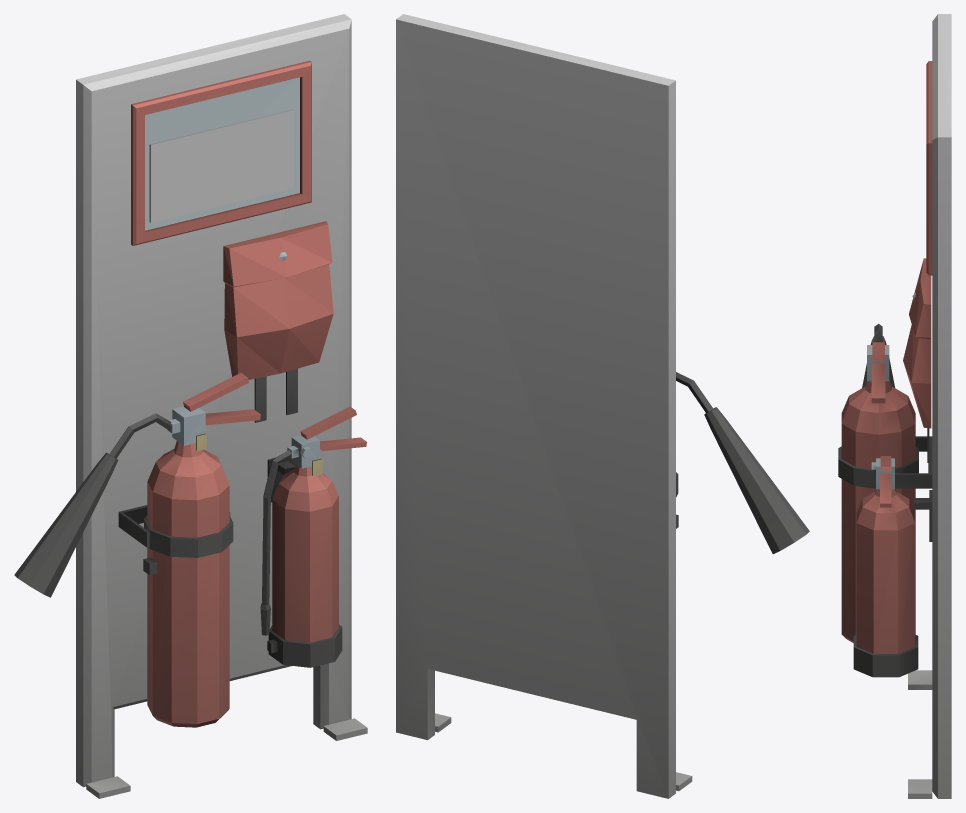
Rendered from firepoint.glb.
3 renders of one model, left to right at view 1: azimuth 30°, elevation 25°; view 2: azimuth 150°, elevation 25°; view 3: azimuth 270°, elevation 25°, orthographic. The views are drawn at different scales.
Visible parts, largest first — view 1: firepoint; view 2: firepoint; view 3: firepoint.
Part boxes in pixels (x1=…): firepoint: x1=14, y1=14, x2=367, y2=798; firepoint: x1=396, y1=14, x2=809, y2=798; firepoint: x1=838, y1=14, x2=951, y2=798.
Bounding box in the file's own units: 0.8173 × 1.5 × 0.2327.
